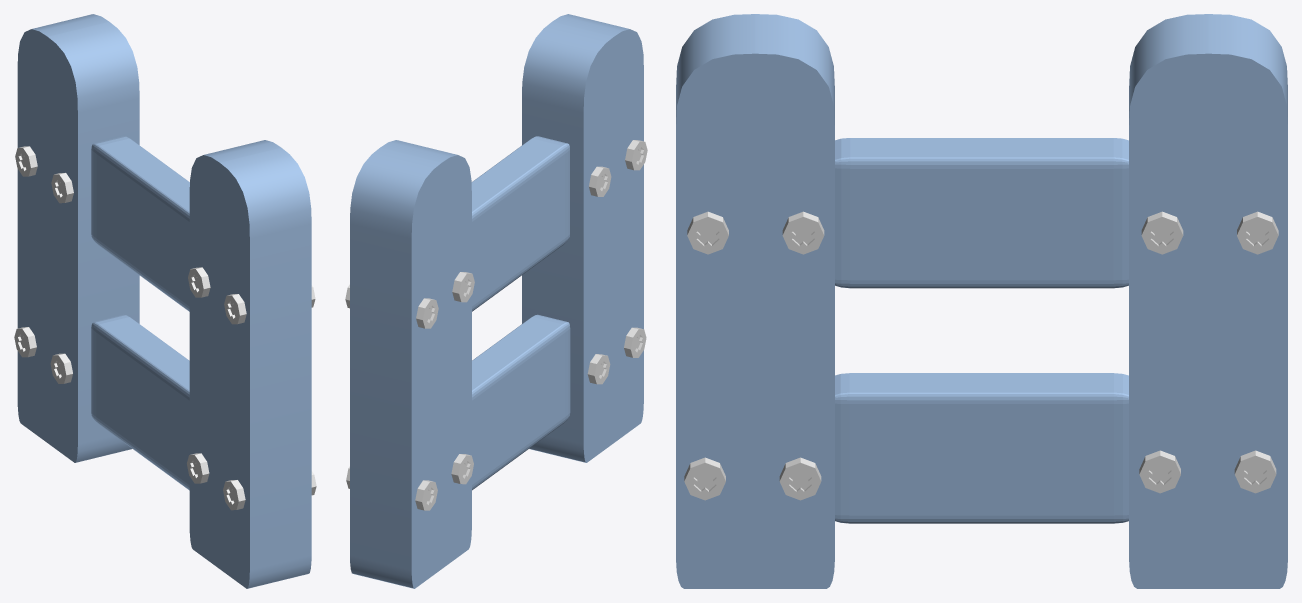
Rendered from vallaHORIZONTAL2.fbx.
3 renders of one model, left to right at view 1: azimuth 30°, elevation 25°; view 2: azimuth 150°, elevation 25°; view 3: azimuth 270°, elevation 25°, orthographic. The views are drawn at different scales.
Parts seen in each view (by area): view 1: Cube.005, Cube.007, Cube.004, Cube.003, Cylinder.020, Cylinder.026, Cylinder.022, Cylinder.023, Cylinder.025, Cylinder.027, Cylinder.021, Cylinder.024; view 2: Cube.007, Cube.005, Cube.003, Cube.004, Cylinder.027, Cylinder.022, Cylinder.023, Cylinder.024, Cylinder.025, Cylinder.021, Cylinder.026, Cylinder.020; view 3: Cube.007, Cube.005, Cube.003, Cube.004, Cylinder.012, Cylinder.015, Cylinder.017, Cylinder.019, Cylinder.013, Cylinder.014, Cylinder.016, Cylinder.018.
Part boxes in pixels (x1=…): Cube.005: x1=189, y1=140, x2=311, y2=588; Cube.007: x1=17, y1=14, x2=139, y2=462; Cube.004: x1=91, y1=136, x2=189, y2=311; Cube.003: x1=91, y1=314, x2=189, y2=490; Cylinder.020: x1=50, y1=353, x2=72, y2=383; Cylinder.026: x1=224, y1=294, x2=246, y2=324; Cylinder.022: x1=51, y1=172, x2=73, y2=203; Cylinder.023: x1=15, y1=146, x2=37, y2=176; Cylinder.025: x1=187, y1=453, x2=209, y2=483; Cylinder.027: x1=188, y1=267, x2=210, y2=297; Cylinder.021: x1=14, y1=327, x2=36, y2=357; Cylinder.024: x1=223, y1=480, x2=245, y2=510; Cube.007: x1=350, y1=140, x2=471, y2=588; Cube.005: x1=522, y1=14, x2=643, y2=462; Cube.003: x1=472, y1=314, x2=570, y2=490; Cube.004: x1=471, y1=136, x2=569, y2=311; Cylinder.027: x1=588, y1=166, x2=611, y2=196; Cylinder.022: x1=452, y1=272, x2=474, y2=302; Cylinder.023: x1=416, y1=298, x2=438, y2=328; Cylinder.024: x1=624, y1=327, x2=646, y2=357; Cylinder.025: x1=587, y1=354, x2=610, y2=384; Cylinder.021: x1=415, y1=480, x2=437, y2=510; Cylinder.026: x1=625, y1=140, x2=647, y2=170; Cylinder.020: x1=451, y1=454, x2=473, y2=484; Cube.007: x1=1129, y1=14, x2=1287, y2=588; Cube.005: x1=676, y1=14, x2=834, y2=588; Cube.003: x1=835, y1=373, x2=1128, y2=523; Cube.004: x1=835, y1=138, x2=1128, y2=288; Cylinder.012: x1=1141, y1=211, x2=1183, y2=254; Cylinder.015: x1=1234, y1=450, x2=1276, y2=493; Cylinder.017: x1=782, y1=211, x2=824, y2=254; Cylinder.019: x1=779, y1=457, x2=821, y2=500; Cylinder.013: x1=1237, y1=211, x2=1278, y2=254; Cylinder.014: x1=1139, y1=450, x2=1180, y2=493; Cylinder.016: x1=687, y1=211, x2=728, y2=254; Cylinder.018: x1=684, y1=457, x2=725, y2=500.
Size of the model in its own units: 39.69 by 201 by 208.
